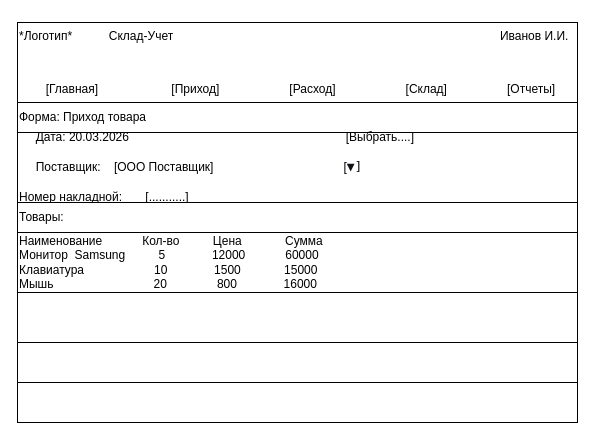
Image size: 596x441. Some labels were removed from this diagram. The shapes that lost their labels are listed below. From the top down, each one's centre as x and y in pixels, then its label:
At (x=297, y=317): "[Добавить товар] [Удалить] Итого: 91000".
At (x=297, y=362): "[Сохранить] [Отмена]".
At (x=297, y=402): "Статус: Готово к сохранению".
